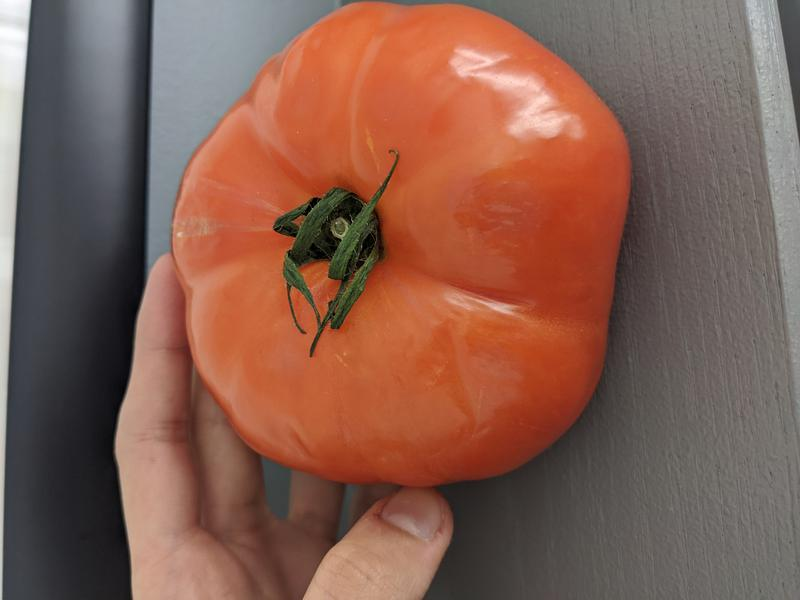tomato: (169, 3, 634, 487)
